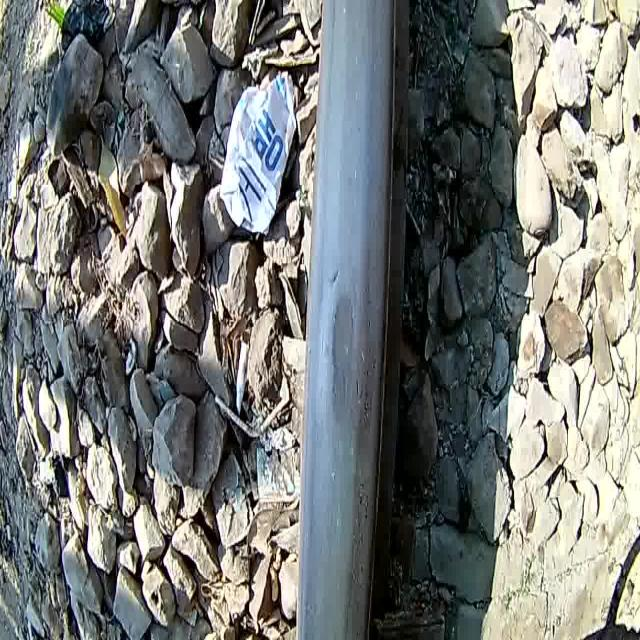Squats: (286, 0, 411, 640)
